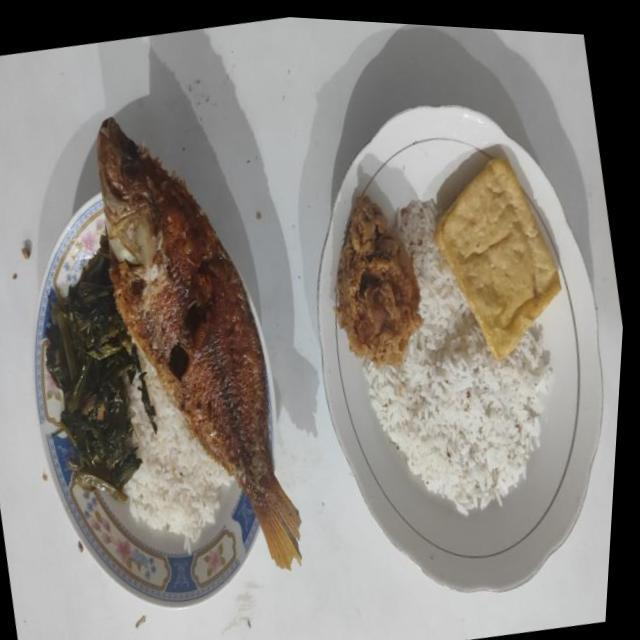ikan_mujair: (97, 118, 301, 568)
nasi_putih: (364, 201, 551, 514), (124, 360, 233, 540)
tahu_goreng: (435, 159, 560, 360)
tumis_kangkung: (45, 234, 142, 499)
